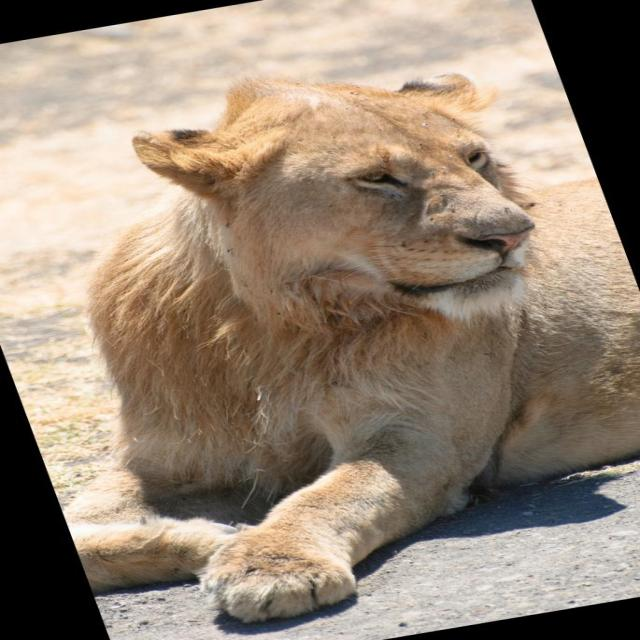Lion: (0, 26, 639, 640)
